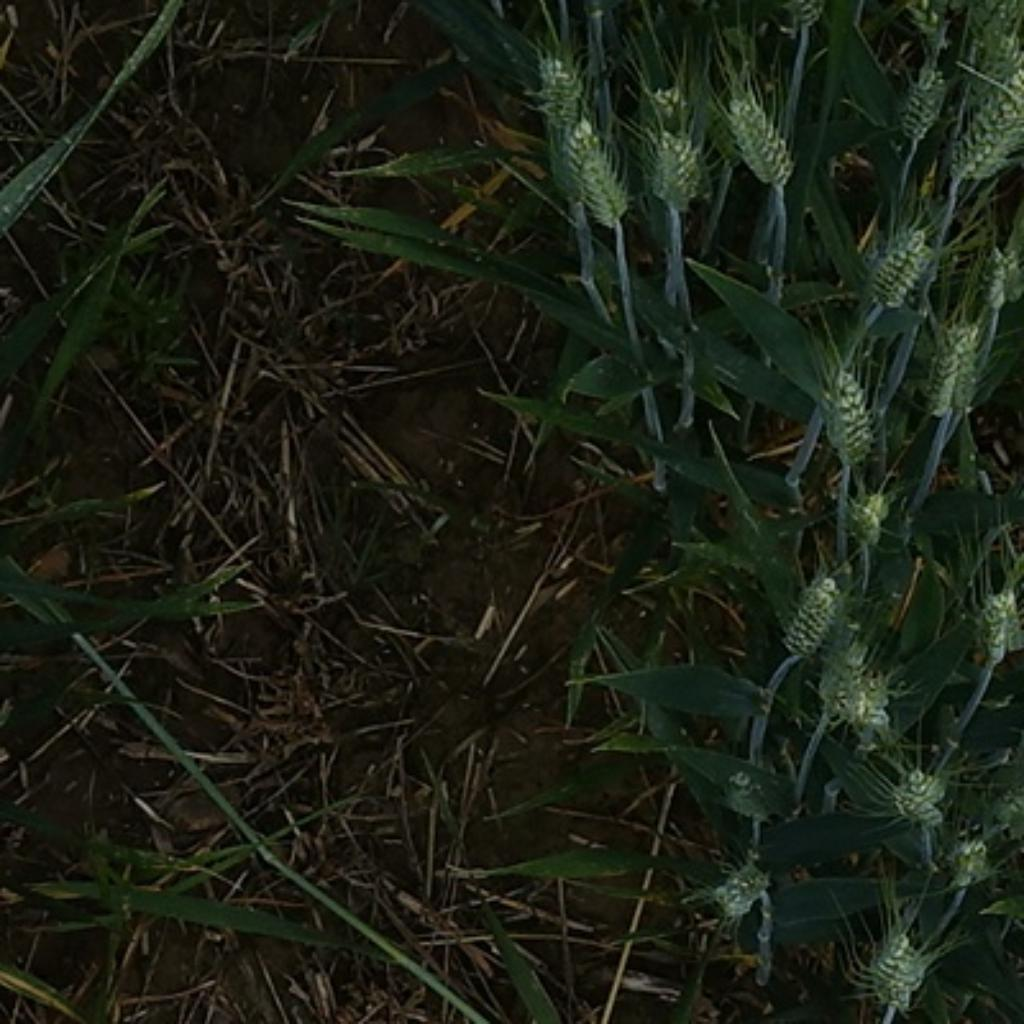0-0: (808, 622, 898, 734), (847, 215, 947, 309), (522, 51, 594, 181), (711, 81, 798, 186), (808, 350, 883, 471), (775, 560, 860, 660), (916, 309, 995, 412), (852, 919, 934, 1013), (960, 63, 1024, 176), (634, 120, 714, 209), (567, 115, 624, 234), (957, 576, 1024, 663), (701, 849, 778, 924), (704, 755, 783, 824), (889, 71, 955, 153), (960, 232, 1024, 312), (832, 481, 898, 547), (885, 764, 945, 825), (946, 834, 995, 898), (645, 74, 696, 133), (969, 791, 1022, 842)
